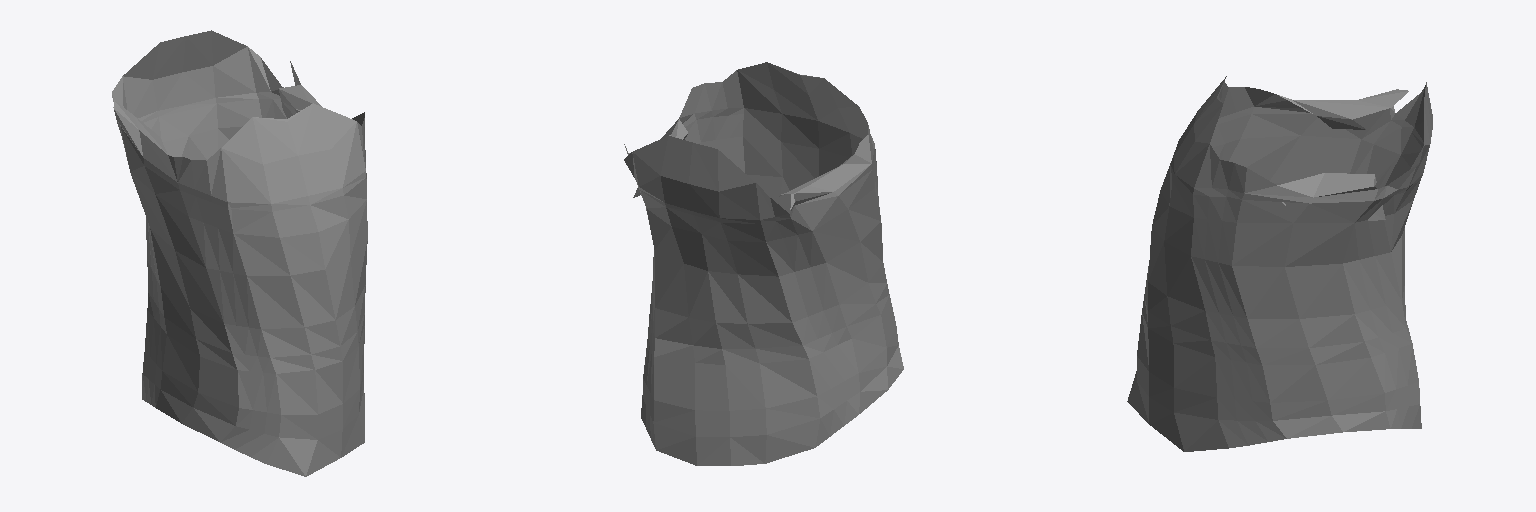
File: nagbody.obj
3 renders of one model, left to right at view 1: azimuth 30°, elevation 25°; view 2: azimuth 150°, elevation 25°; view 3: azimuth 270°, elevation 25°, orthographic.
Visible parts, largest first — view 1: male01_mesh1_002_mesh1_geometry_male_02_1noCullingID_male_02_1no; view 2: male01_mesh1_002_mesh1_geometry_male_02_1noCullingID_male_02_1no; view 3: male01_mesh1_002_mesh1_geometry_male_02_1noCullingID_male_02_1no.
Part boxes in pixels (left/top/right/bottom): male01_mesh1_002_mesh1_geometry_male_02_1noCullingID_male_02_1no: left=112, top=30, right=367, bottom=476; male01_mesh1_002_mesh1_geometry_male_02_1noCullingID_male_02_1no: left=624, top=62, right=903, bottom=465; male01_mesh1_002_mesh1_geometry_male_02_1noCullingID_male_02_1no: left=1127, top=76, right=1432, bottom=451.
Size of the model in its own units: 12.22 by 19.98 by 16.65.